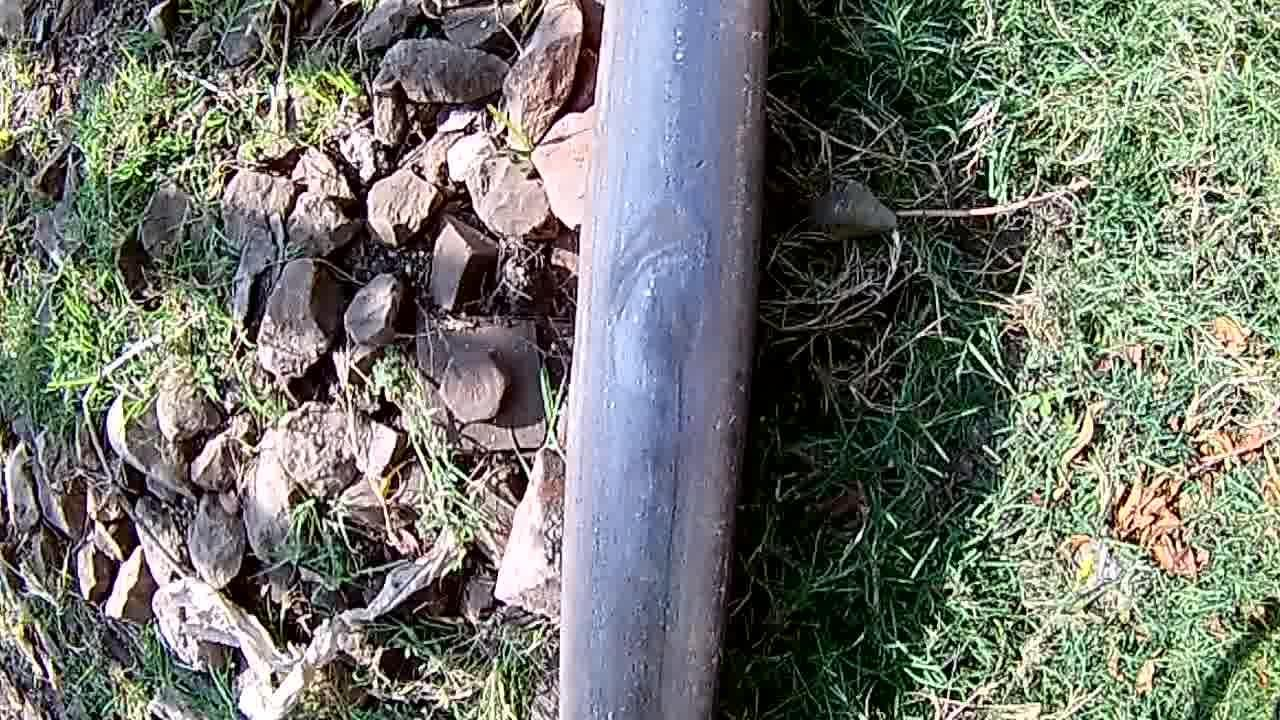crack: (592, 96, 764, 417)
